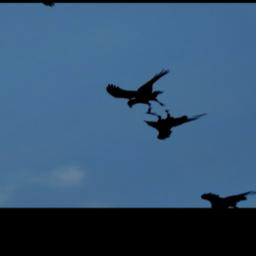Crow: (101, 66, 195, 121)
